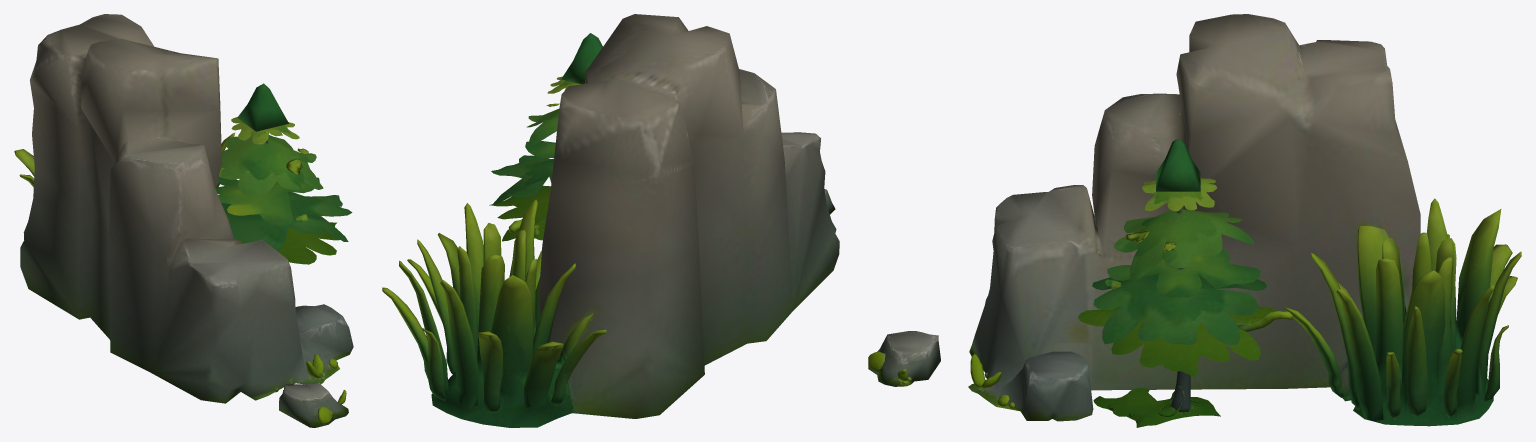
Rendered from rock-formation.glb.
The picture shows the model from 3 angles, left to right: view 1: azimuth 30°, elevation 25°; view 2: azimuth 150°, elevation 25°; view 3: azimuth 270°, elevation 25°; orthographic projection. The views are drawn at different scales.
Visible parts, largest first — view 1: tripo_node_b53f58a8-2252-4a80-b8db-2d566d76e847; view 2: tripo_node_b53f58a8-2252-4a80-b8db-2d566d76e847; view 3: tripo_node_b53f58a8-2252-4a80-b8db-2d566d76e847.
Part boxes in pixels (x1,y1,x2,y2): tripo_node_b53f58a8-2252-4a80-b8db-2d566d76e847: [14, 14, 353, 427]; tripo_node_b53f58a8-2252-4a80-b8db-2d566d76e847: [382, 14, 839, 427]; tripo_node_b53f58a8-2252-4a80-b8db-2d566d76e847: [868, 14, 1521, 427].
Size of the model in its own units: 0.4863 by 0.541 by 0.998.
Materials: 1 (1 with a texture image).
